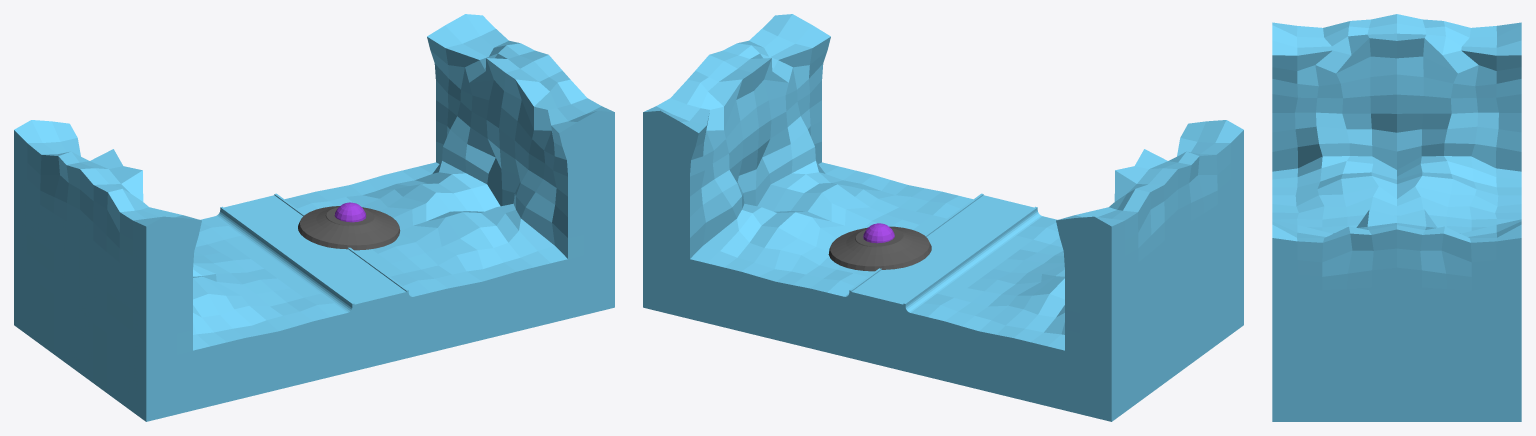
File: level_L4.fbx
The picture shows the model from 3 angles, left to right: view 1: azimuth 30°, elevation 25°; view 2: azimuth 150°, elevation 25°; view 3: azimuth 270°, elevation 25°; orthographic projection. The views are drawn at different scales.
Parts seen in each view (by area): view 1: Level4; view 2: Level4; view 3: Level4.
Part boxes in pixels (<box>): Level4: <box>14,14,614,421</box>; Level4: <box>643,14,1243,421</box>; Level4: <box>1272,14,1521,421</box>.
Bounding box in the file's own units: 4915 × 2047 × 2400.
